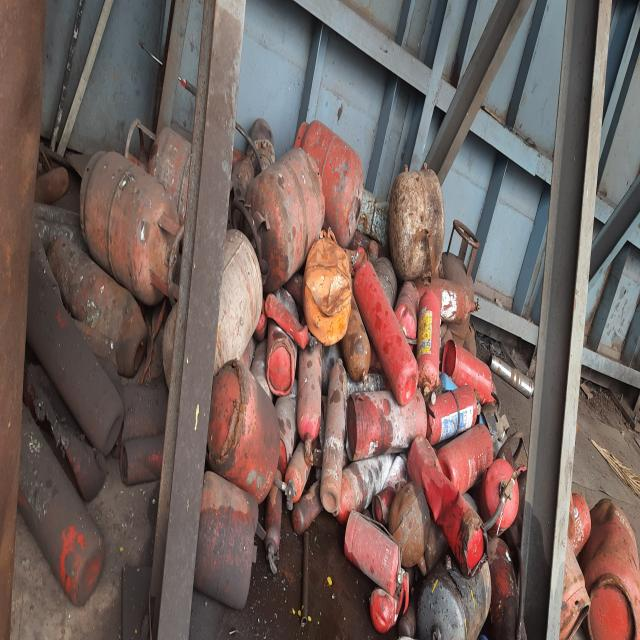Cylinder: (29, 252, 128, 457), (20, 403, 106, 607), (80, 152, 184, 308), (246, 149, 325, 297), (209, 359, 285, 506), (352, 259, 420, 409), (292, 120, 363, 247), (587, 499, 640, 640), (344, 512, 408, 616), (320, 359, 347, 516), (440, 426, 498, 496), (442, 340, 499, 408), (413, 284, 443, 396), (442, 219, 482, 298), (297, 333, 322, 455), (483, 456, 520, 537)
